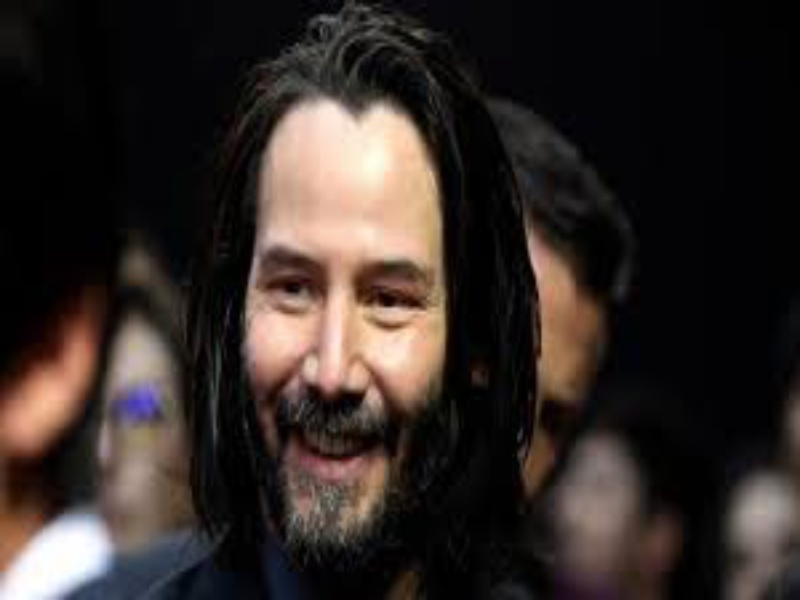TsisyArotava: (213, 90, 450, 583)
